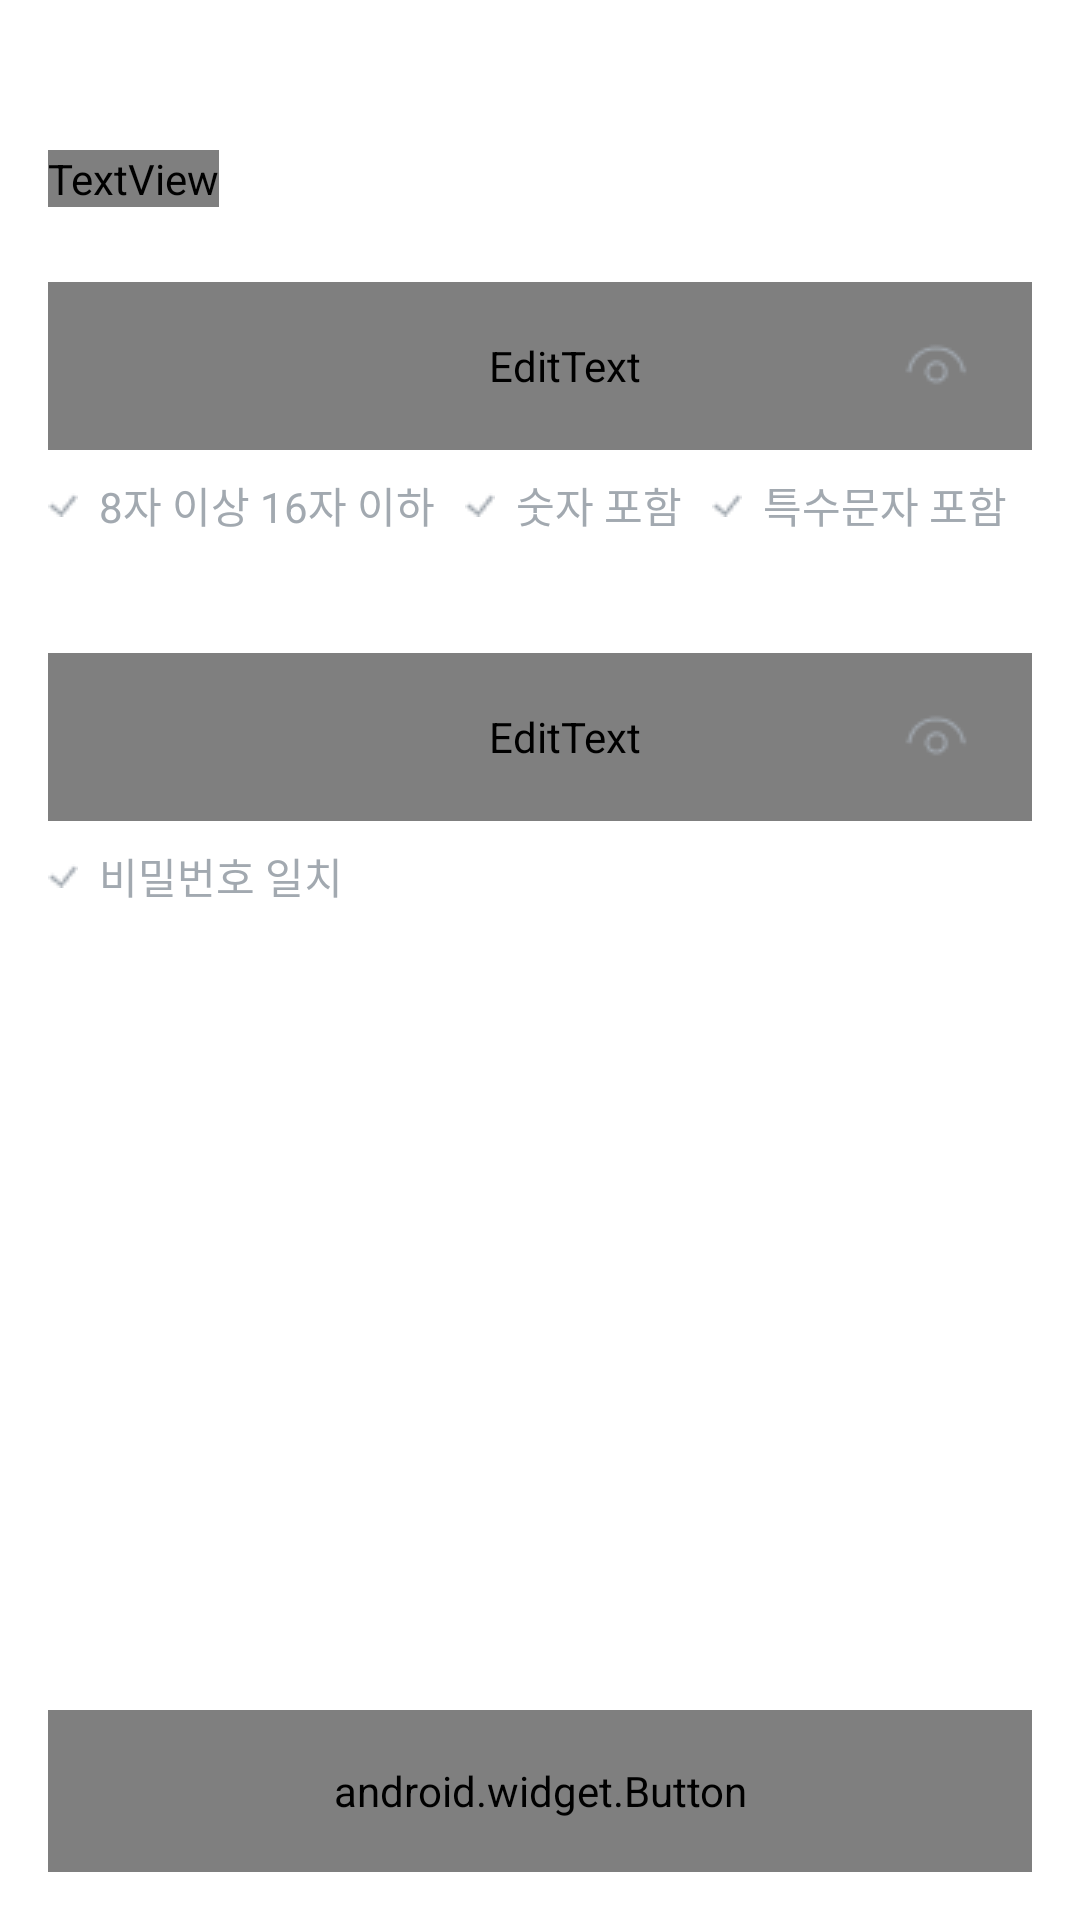

Icons on this 1080w x 1920h Android screen, each with the point to tap as (x,y):
login pw: (937,365), (936,736)
signup pwcheck: (63,506), (480,506), (727,506), (63,877)
